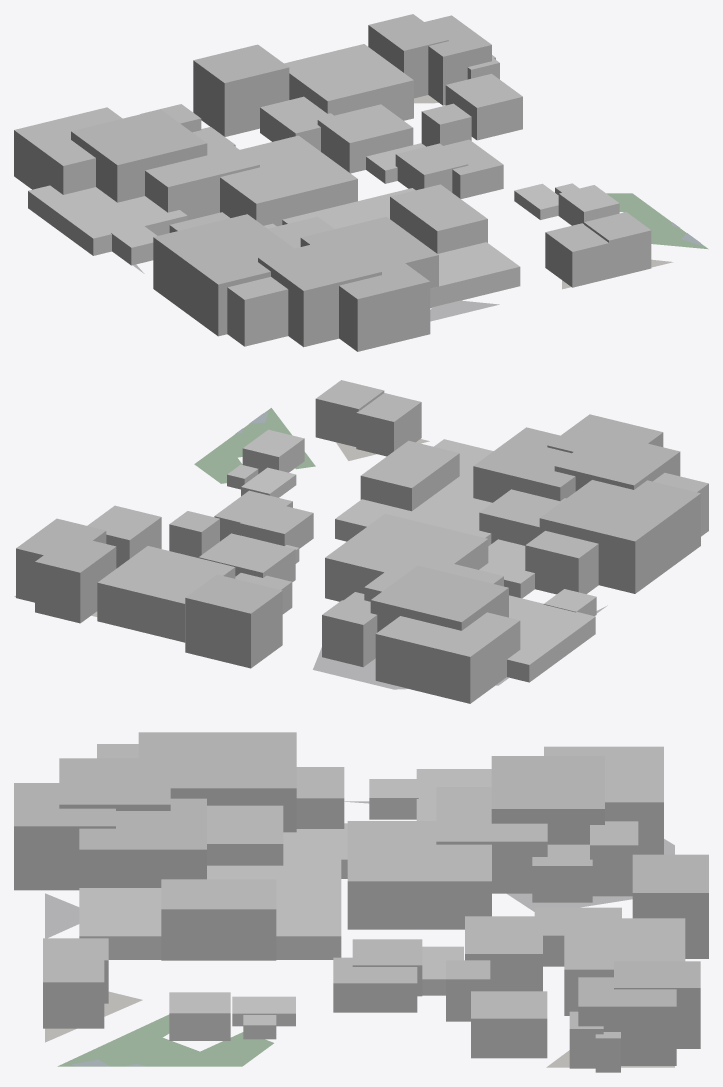
Rendered from 114_86_mid.glb.
The picture shows the model from 3 angles, top to bottom: view 1: azimuth 30°, elevation 25°; view 2: azimuth 150°, elevation 25°; view 3: azimuth 270°, elevation 25°; orthographic projection. The views are drawn at different scales.
Size of the model in its own units: 531 by 60.88 by 552.
